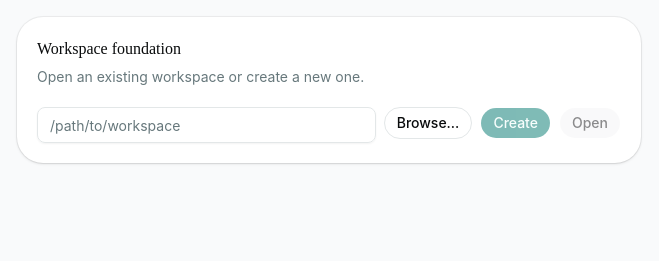
Test case: WorkspaceFoundationPanel › shows an honest error state when the host refuses
In the field named "Workspace folder": (206, 125) [37,107,376,143], type "/Users/demo/workspaces/demo"
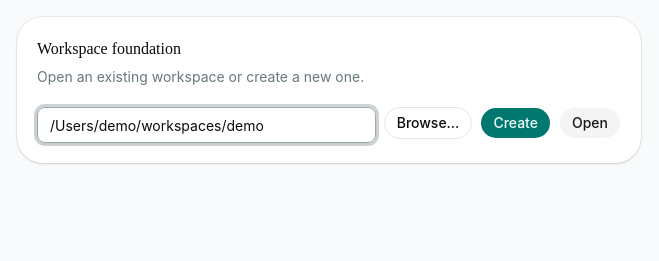
Click the button "Open": (590, 123) [559,107,621,139]
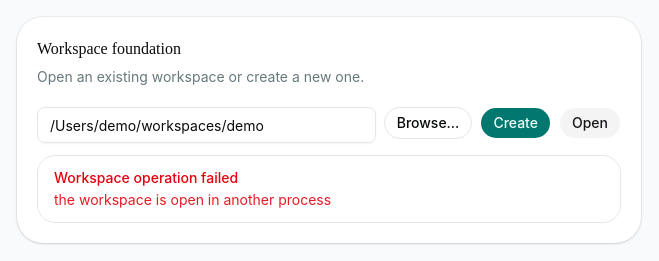
Check: the text "Workspace operation failed" is shown, box [54,169,238,186]
Check: the text "the workspace is open in another process" is shown, box [54,191,331,208]
